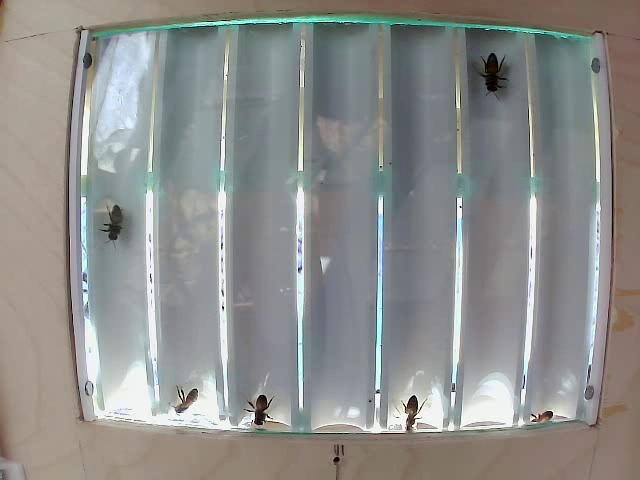bee: (95, 194, 144, 237), (246, 385, 284, 432), (181, 373, 215, 425), (482, 44, 507, 98)
